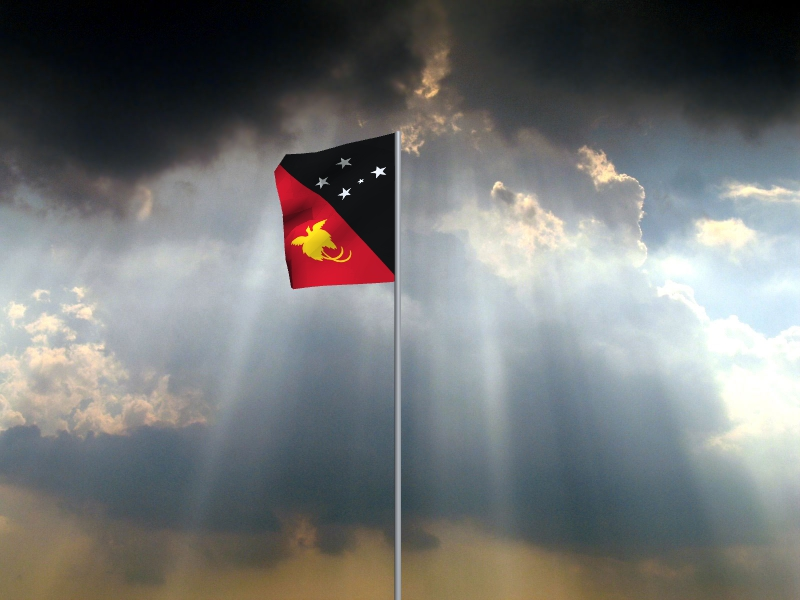pg: (274, 133, 394, 290)
